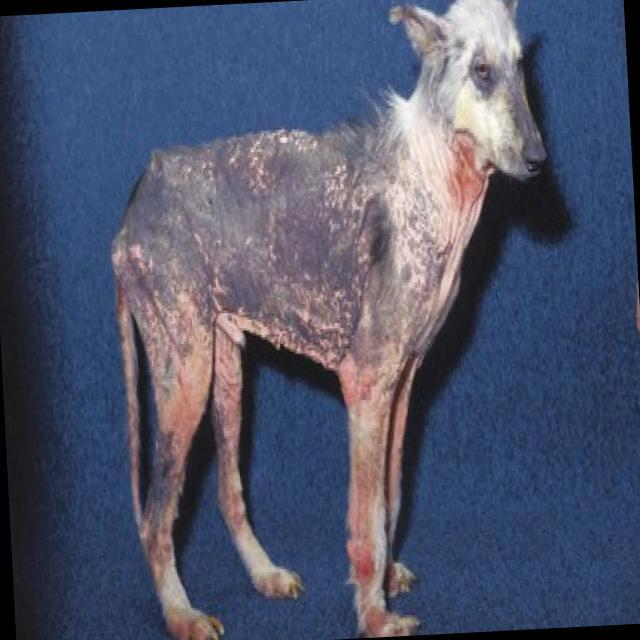fungal infection: (441, 132, 491, 207), (351, 356, 389, 409), (344, 542, 382, 591), (360, 599, 395, 635), (164, 610, 204, 639)
